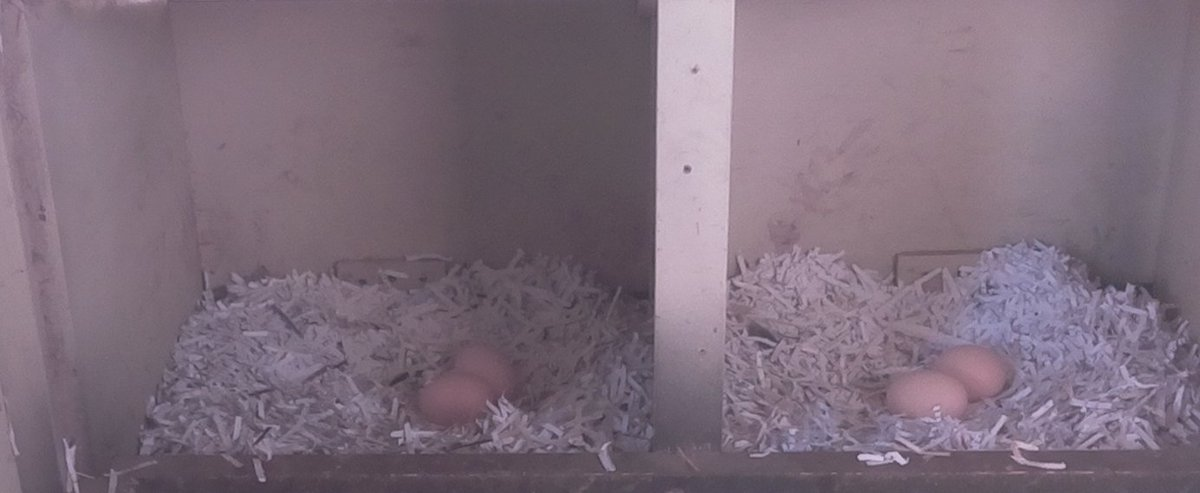egg: (411, 371, 503, 430), (927, 343, 1012, 404), (883, 368, 971, 426), (451, 342, 527, 409)
